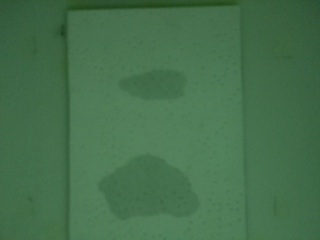Water_detected: (108, 157, 187, 213), (131, 69, 183, 96)
